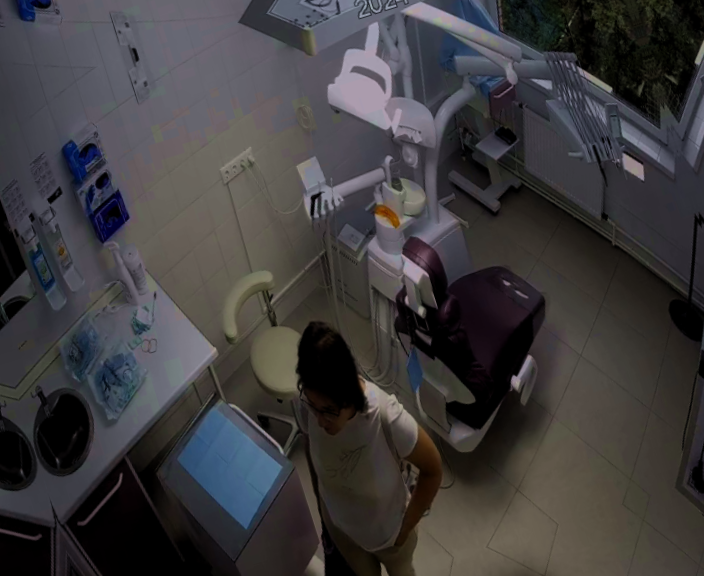Empty: (331, 202, 587, 475)
